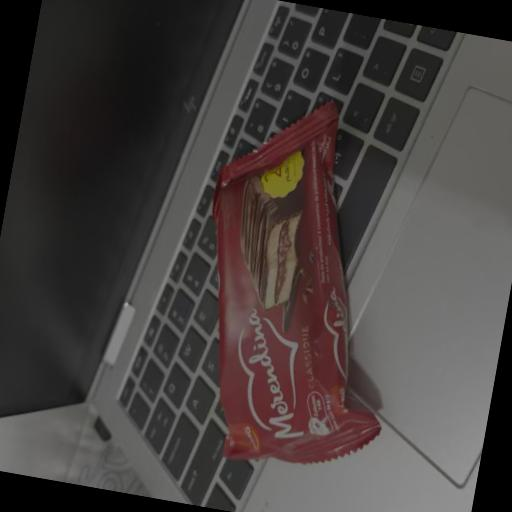merendina: (154, 76, 459, 500)
